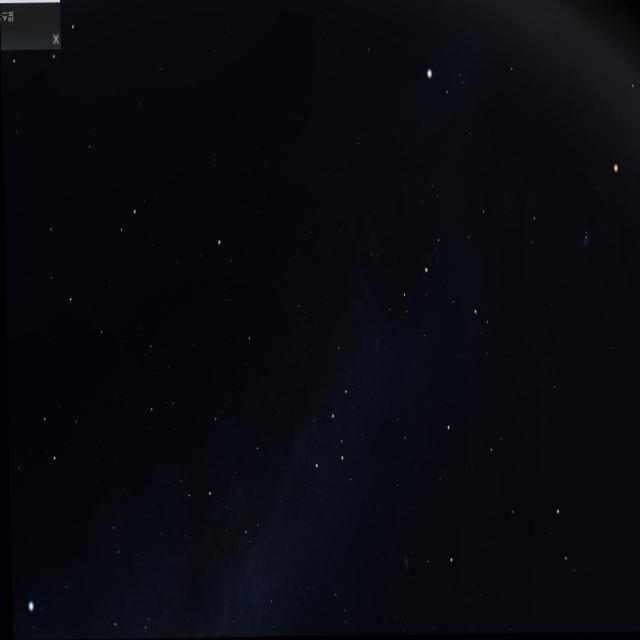cassiopeia: (296, 324, 368, 504)
pleiades: (580, 208, 596, 258)
